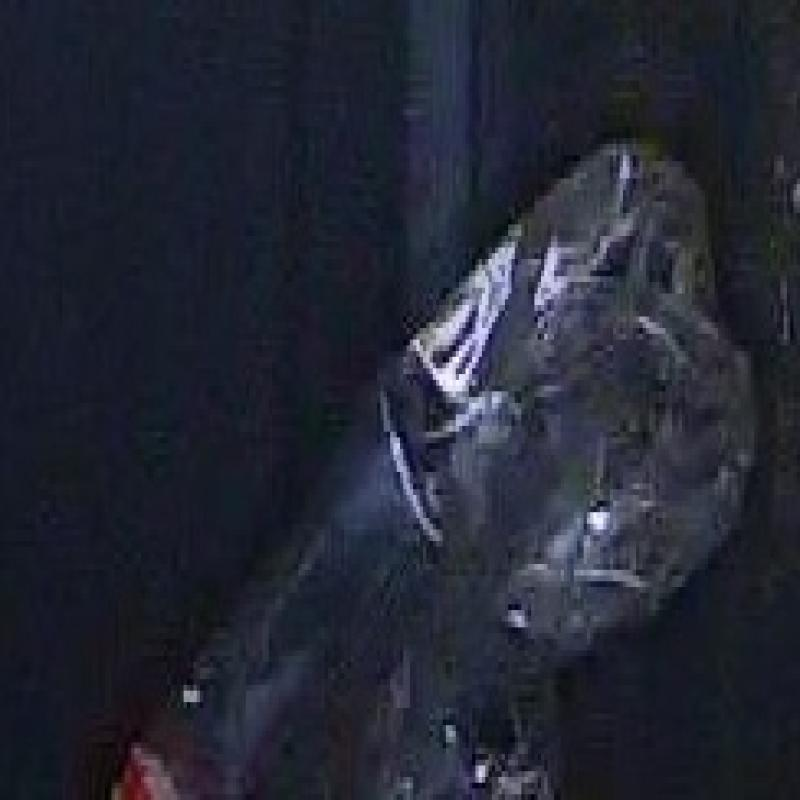botella: (98, 144, 751, 800)
